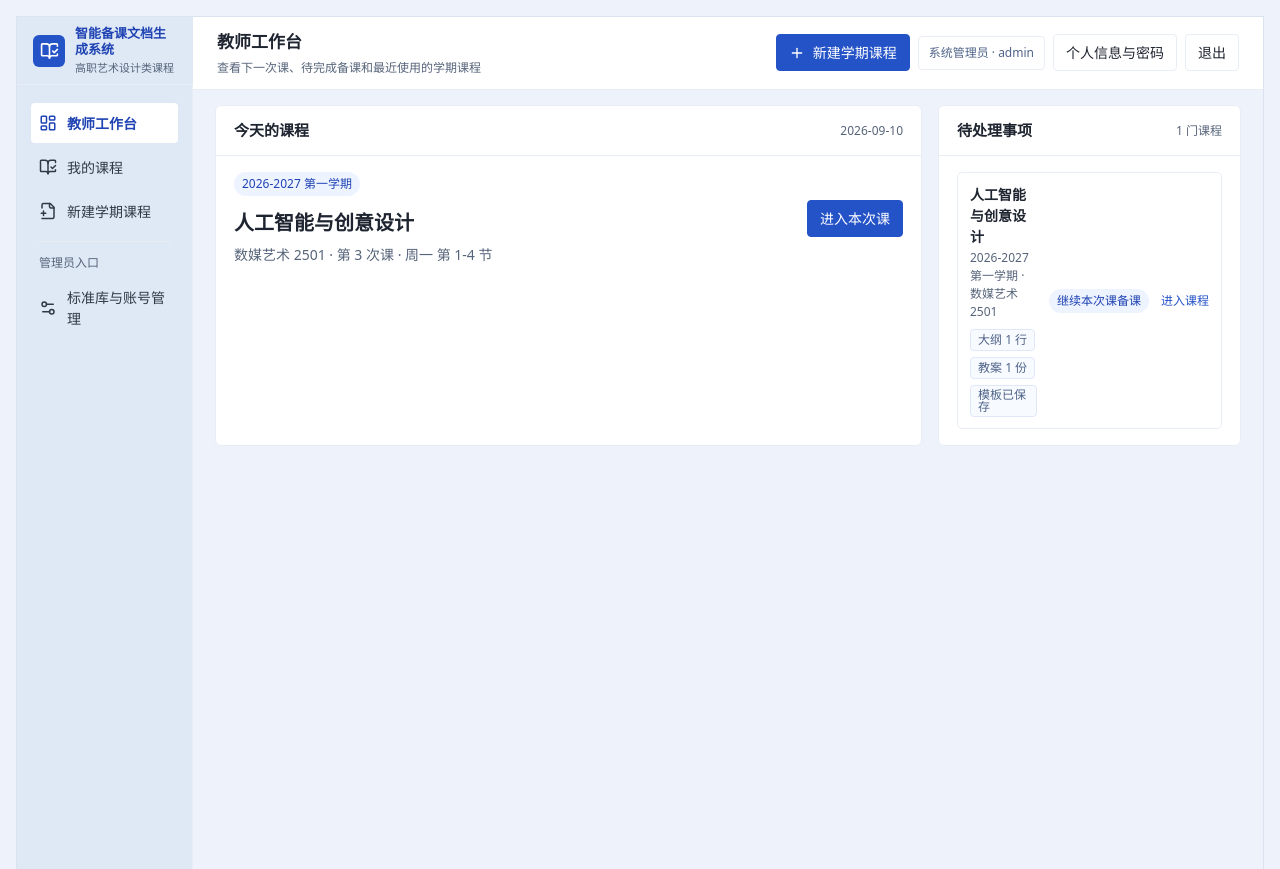
Scenario: App › keeps admin creation forms collapsed until requested
The width and height of the screenshot is (1280, 869).
What coordinates should you click on to do the following:
click the button "标准库与账号管理"
I would click on:
 (104, 308)
Its box is [31,278,178,338].
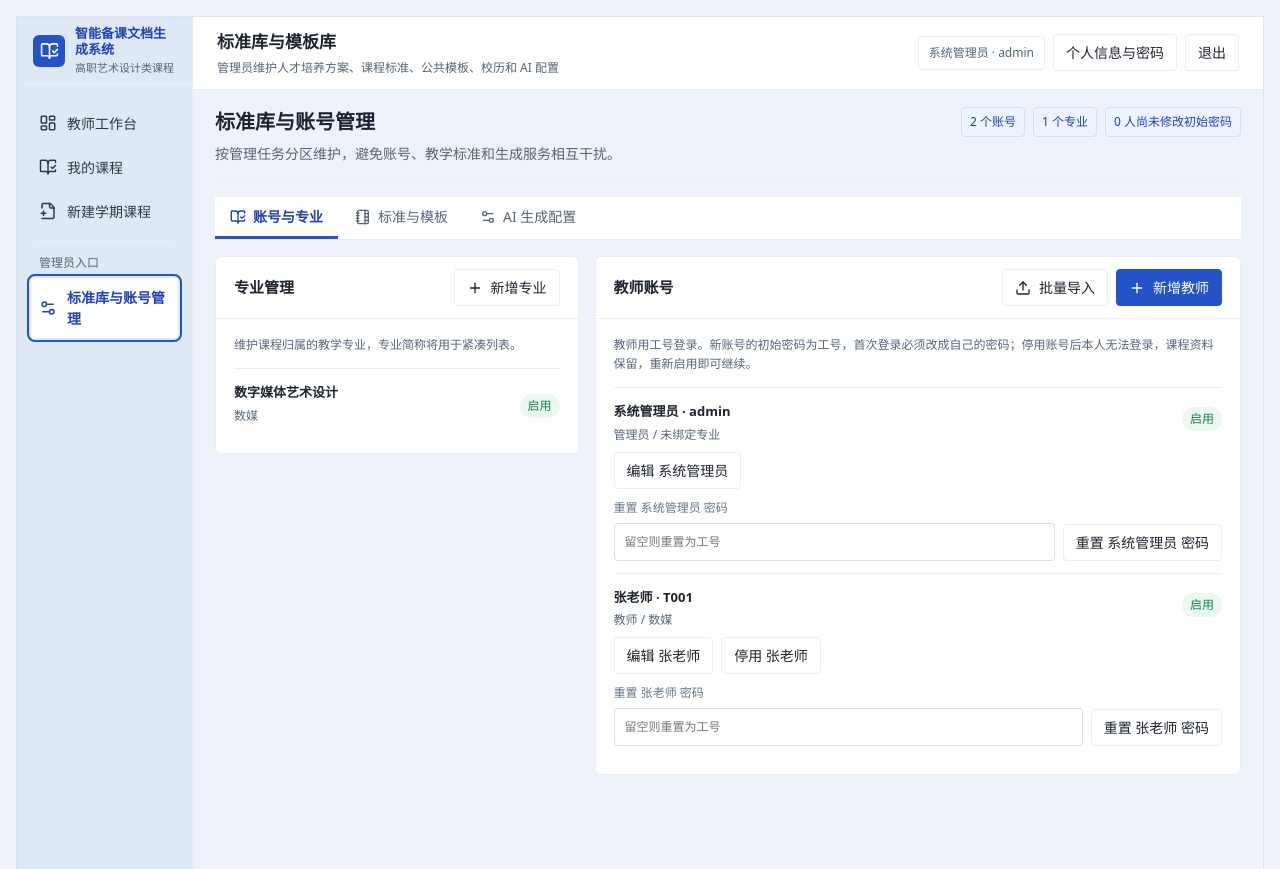
Expected: the field labelled "专业名称" is not shown
Now the heading "专业管理" is shown, box [234,276,294,299]
What coordinates should you click on to do the following:
click the button "新增专业"
I would click on:
 (507, 288)
Its box is [454,269,560,306].
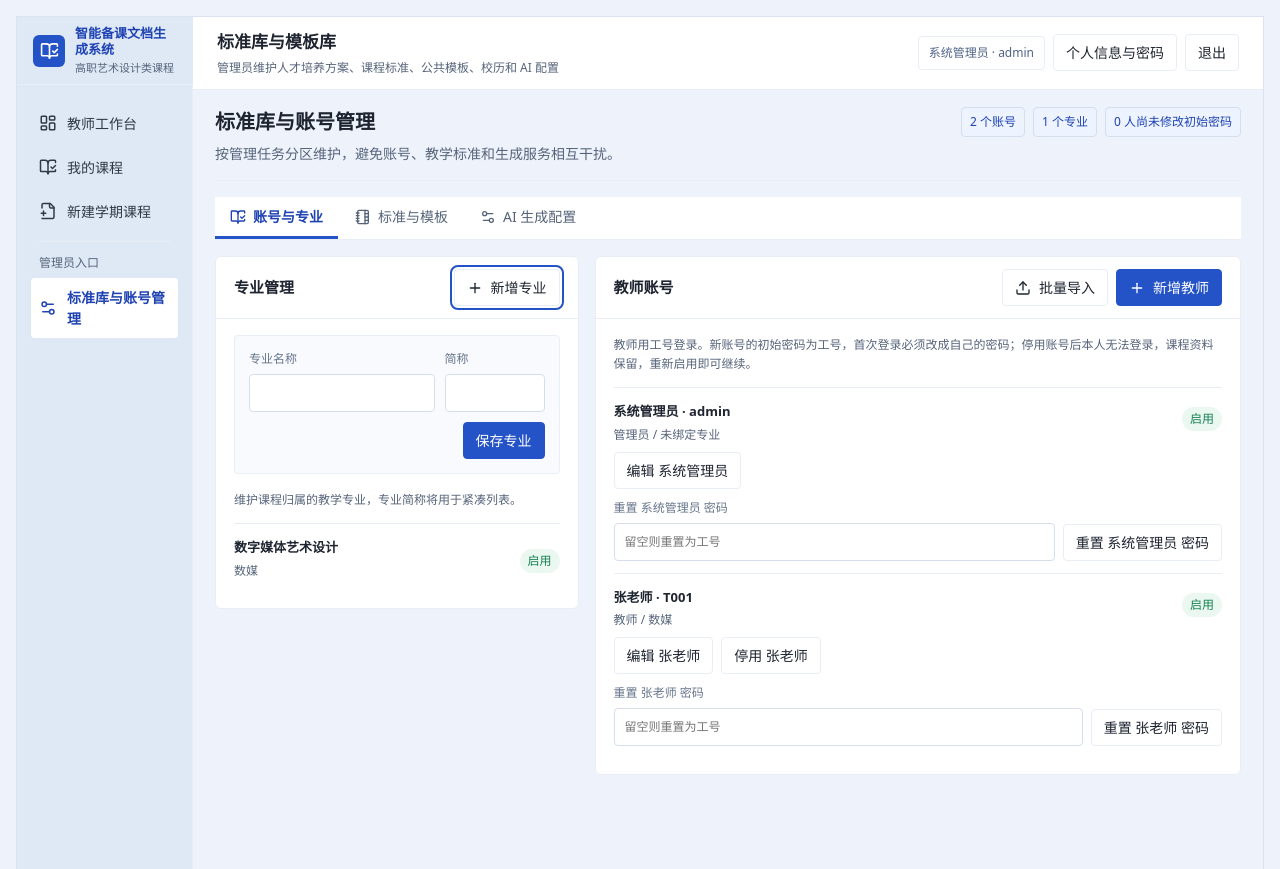
Now the field labelled "专业名称" is shown, box [249,374,435,412]
What coordinates should you click on to do the following:
click the button "新增教师"
I would click on:
 (1169, 288)
Its box is [1116,269,1222,306].
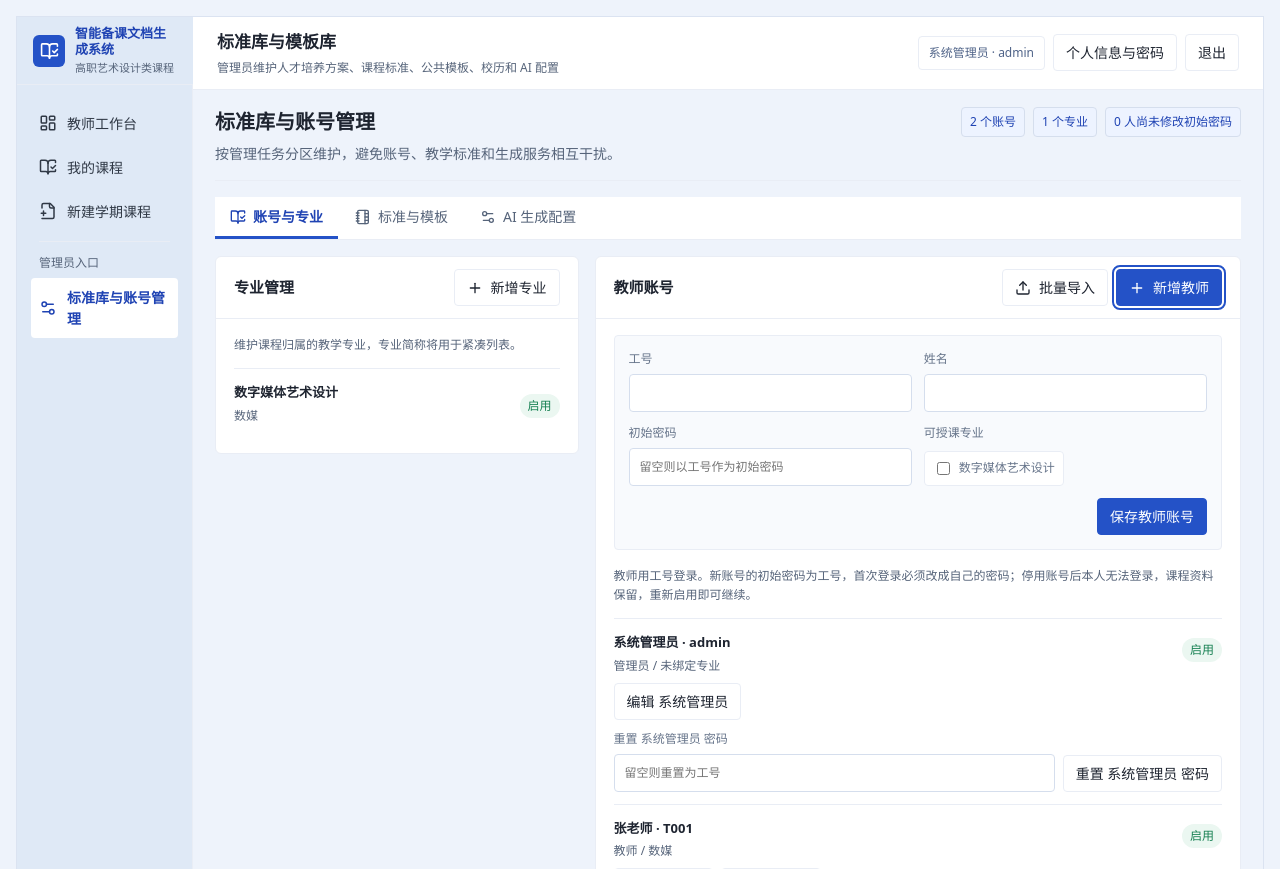
Now the field labelled "工号" is shown, box [629,374,912,412]
Now the label labelled "专业名称" is gone
